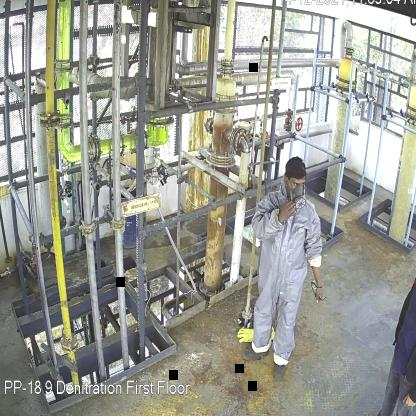mask: (292, 186, 308, 211)
no_glove: (310, 263, 326, 305), (278, 198, 296, 229)
no_goggles: (289, 178, 306, 189)
